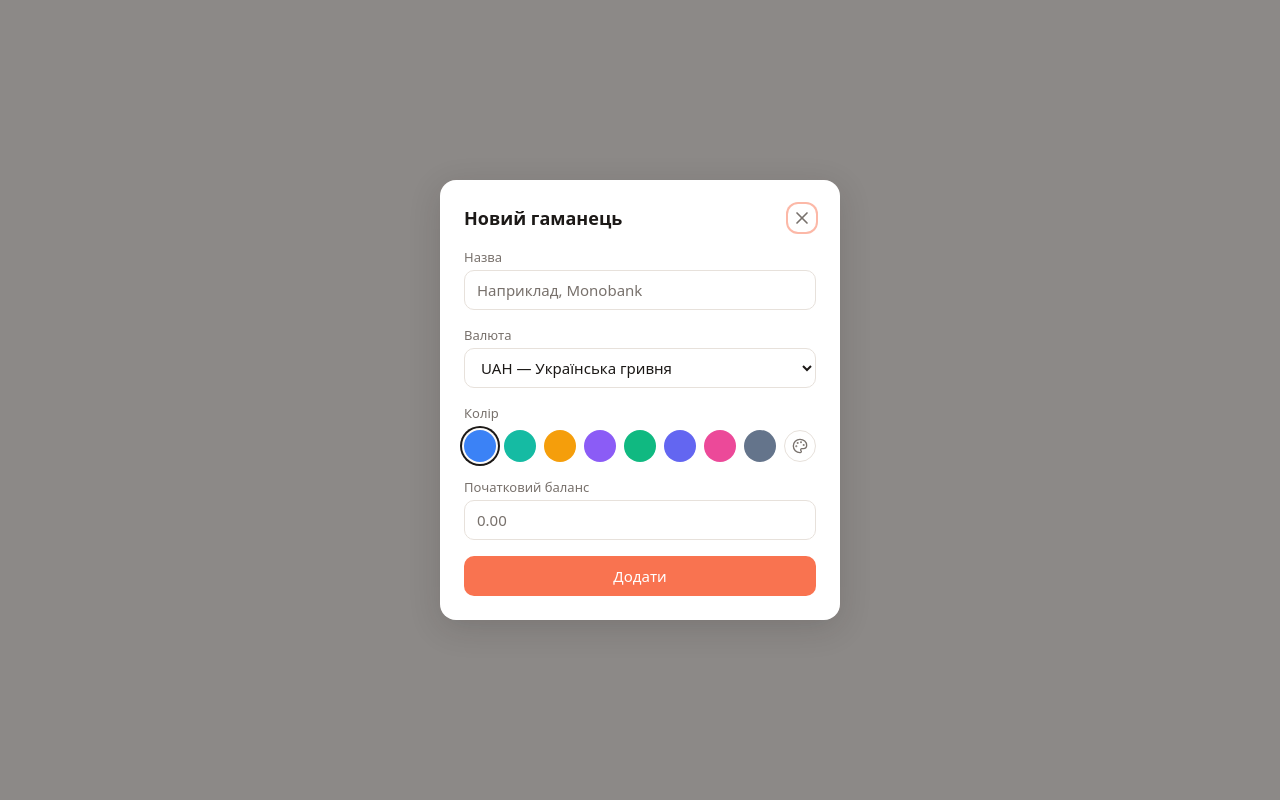
Test: CreateWalletDialog › shows a server error in the current language
Type "Mono" into the field labelled "Назва" at (640, 290), box [464, 270, 816, 310]
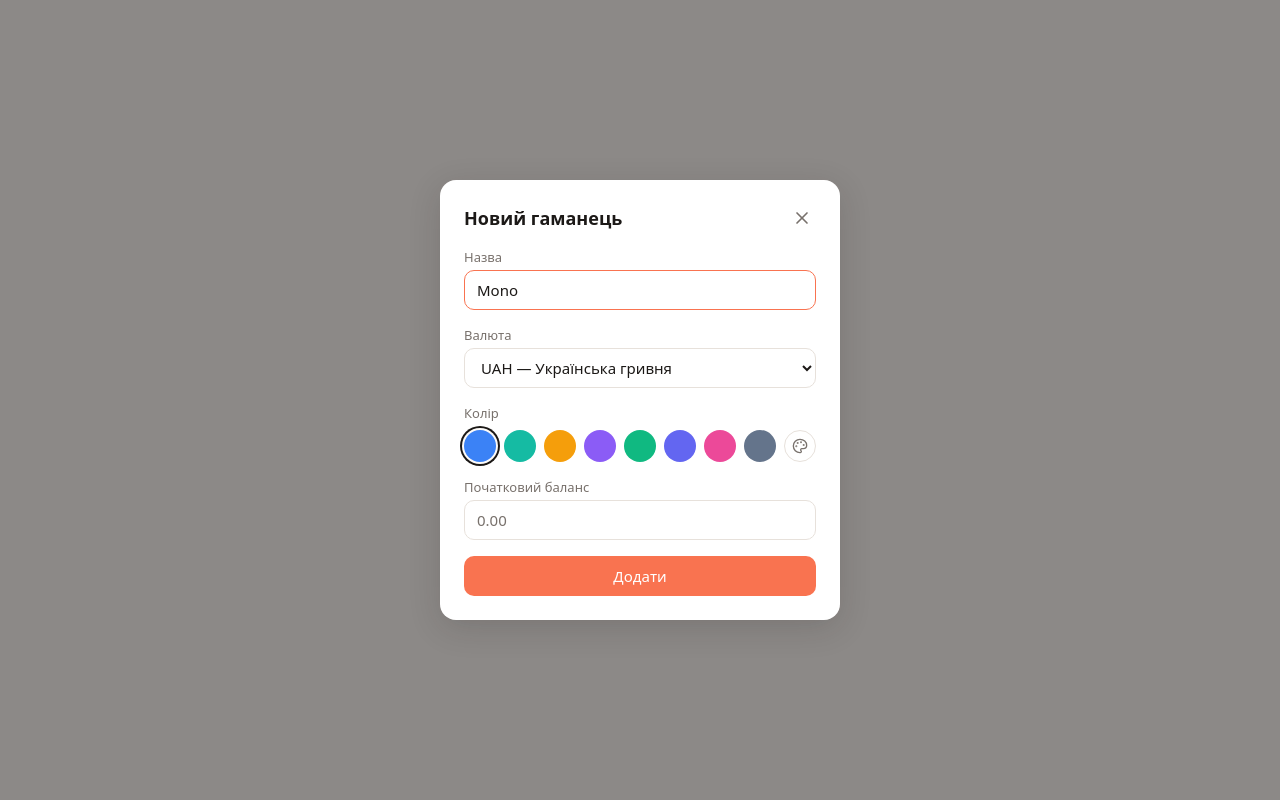
Type "0" into the field labelled "Початковий баланс" at (640, 520), box [464, 500, 816, 540]
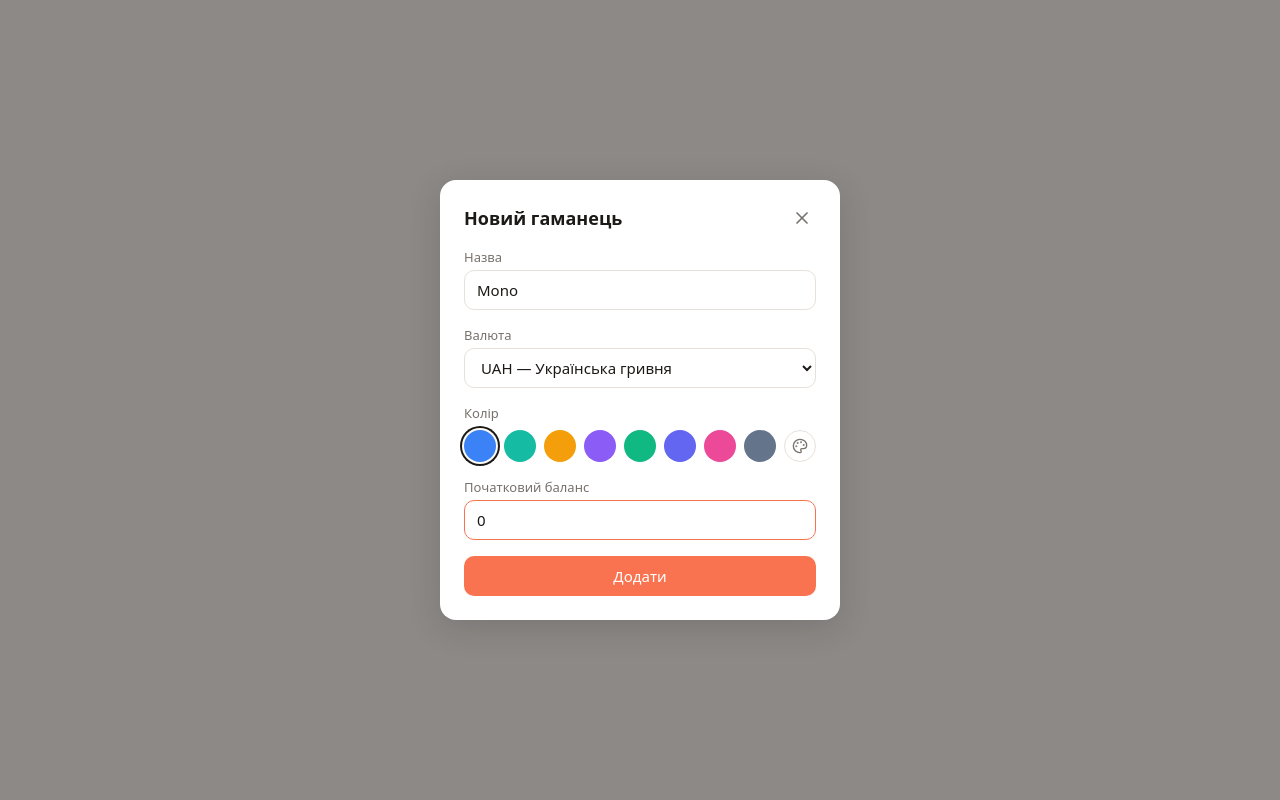
Click the button "Додати" at (640, 576), box [464, 556, 816, 596]
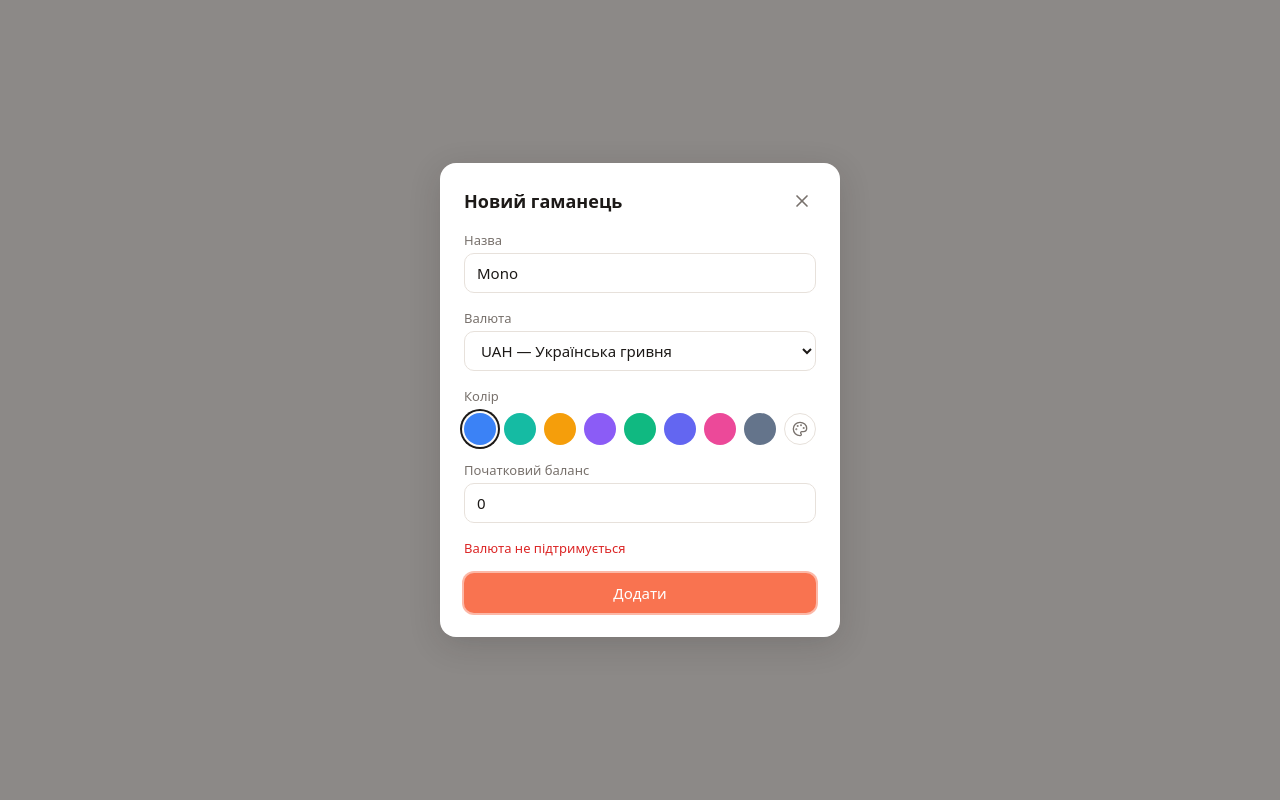
Result: the message reads "Валюта не підтримується" at [464, 539, 626, 557]
